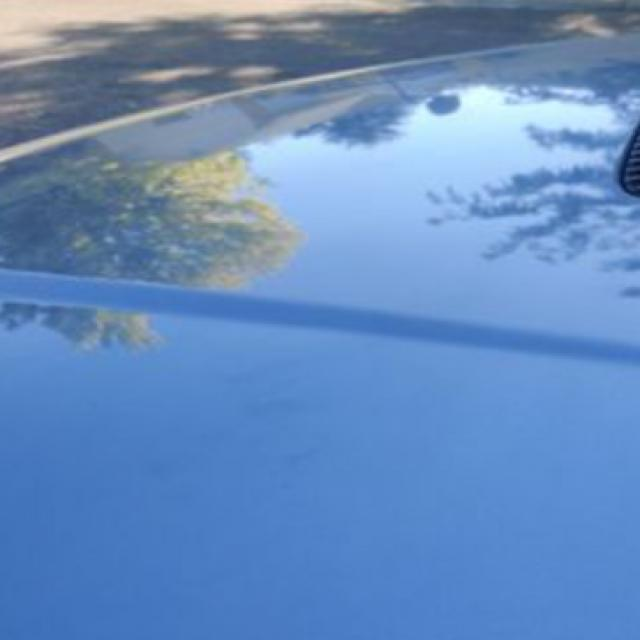dents: (220, 363, 345, 458)
